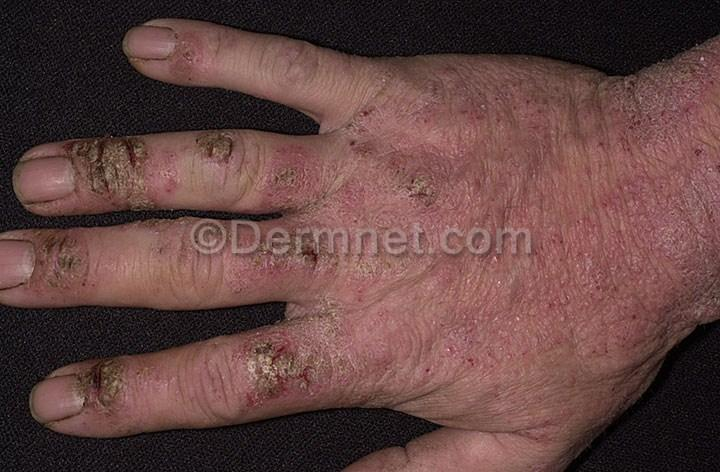Eczema: (355, 114, 449, 218), (219, 335, 323, 423), (89, 122, 156, 204), (75, 357, 138, 424), (58, 210, 105, 293)
